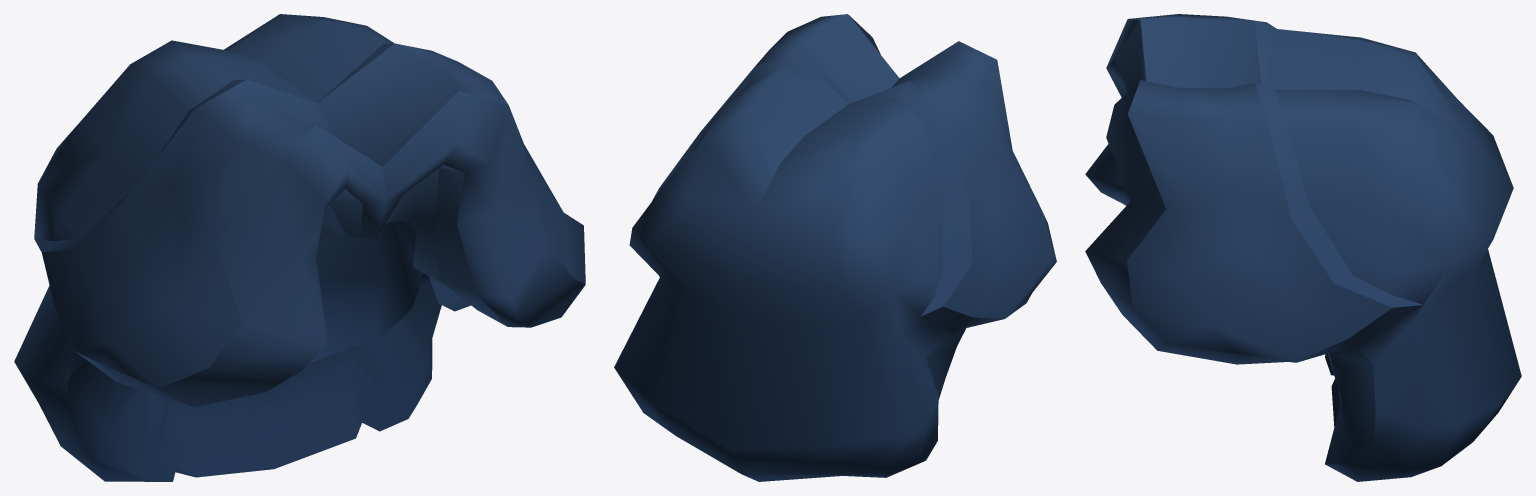
Rendered from Hair_Blue_6.fbx.
3 renders of one model, left to right at view 1: azimuth 30°, elevation 25°; view 2: azimuth 150°, elevation 25°; view 3: azimuth 270°, elevation 25°, orthographic. The views are drawn at different scales.
Visible parts, largest first — view 1: Hair_Blue_6; view 2: Hair_Blue_6; view 3: Hair_Blue_6.
Part boxes in pixels (x1,y1,x2,y2): Hair_Blue_6: (14, 14, 585, 481); Hair_Blue_6: (614, 14, 1056, 481); Hair_Blue_6: (1085, 14, 1521, 481).
Size of the model in its own units: 71.21 by 65.88 by 65.95.
